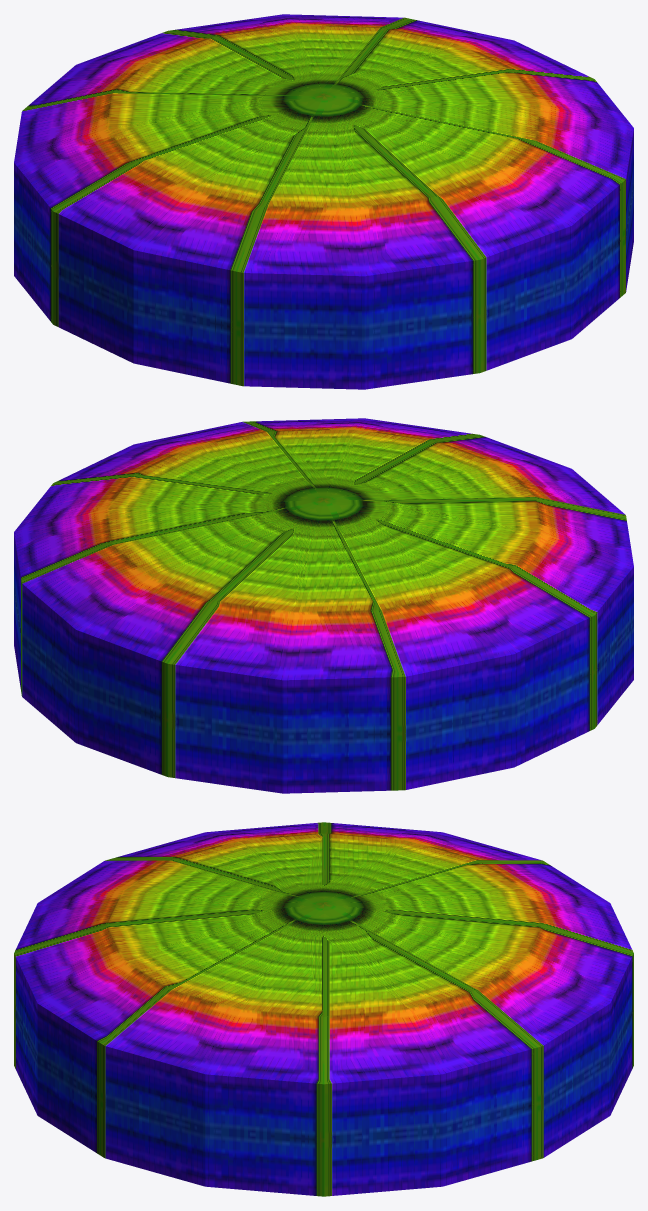
The picture shows the model from 3 angles, top to bottom: view 1: azimuth 30°, elevation 25°; view 2: azimuth 150°, elevation 25°; view 3: azimuth 270°, elevation 25°; orthographic projection.
Parts seen in each view (by area): view 1: Slot_Kart_Derby__Model__SKP__Backdrop; view 2: Slot_Kart_Derby__Model__SKP__Backdrop; view 3: Slot_Kart_Derby__Model__SKP__Backdrop.
Part boxes in pixels (box(x1,y1,x2,y2)): Slot_Kart_Derby__Model__SKP__Backdrop: box(14, 14, 633, 389); Slot_Kart_Derby__Model__SKP__Backdrop: box(14, 418, 633, 793); Slot_Kart_Derby__Model__SKP__Backdrop: box(14, 822, 633, 1196).
Bounding box in the file's own units: 200000 × 75000 × 200000.
23 materials, 23 textured.
